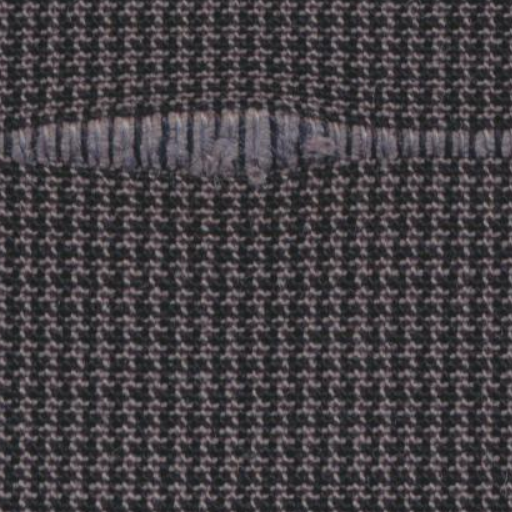DaiSha: (8, 82, 502, 178)
